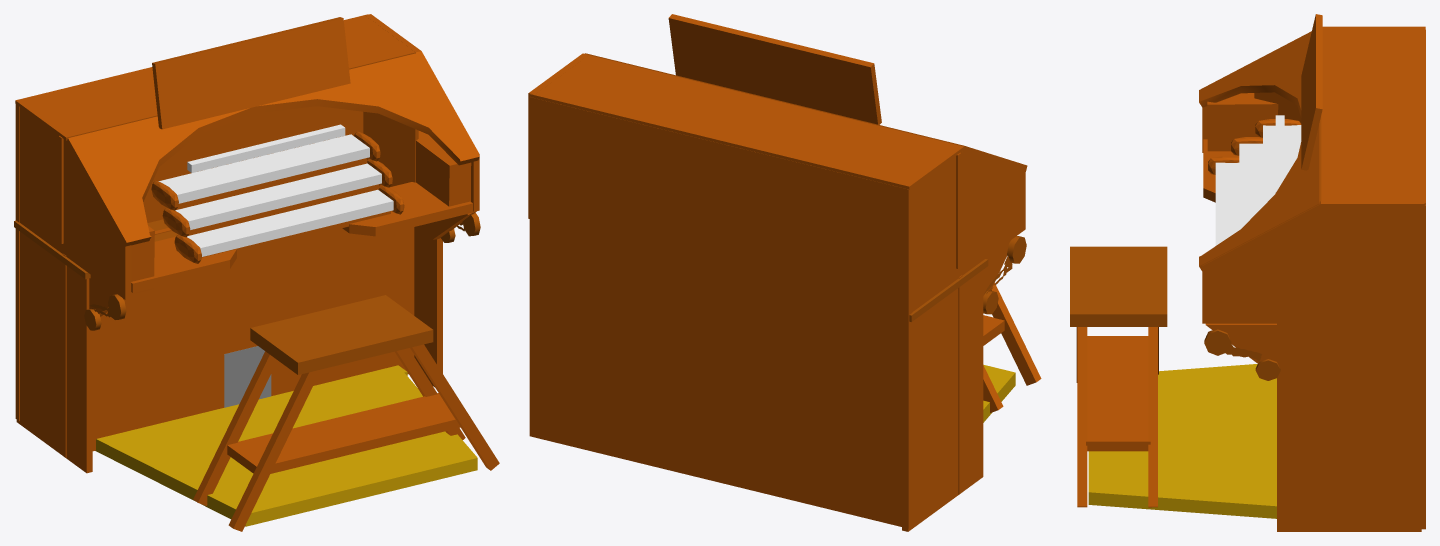
File: sweethome3d-contributions-allen-organ-174.glb
3 renders of one model, left to right at view 1: azimuth 30°, elevation 25°; view 2: azimuth 150°, elevation 25°; view 3: azimuth 270°, elevation 25°, orthographic. The views are drawn at different scales.
Visible parts, largest first — view 1: dividerwall, Boolean_3, cutslopefront, musicrack, Cube_1, Boolean_left, bench_seat, top, Cube_7, nameboard, manualkeys_1, manualkeys_2 (+20 smaller); view 2: backwall, top, Cube_1, musicrack, Boolean_left, Cube_6_2, cutslopefront, dividerwall, Boolean_3, midcrossmember, nameboard, Boolean_right (+1 smaller); view 3: Cube_1_1, Boolean_right, Boolean_3, top, bench_seat, cutslopefront, Cube_7, Cube_9, musicrack, Cube_6, manualkeys_2, manualkeys (+9 smaller).
Part boxes in pixels (left/top/right/bottom): dividerwall: left=62, top=227, right=414, bottom=457; Boolean_3: left=95, top=365, right=477, bottom=526; cutslopefront: left=66, top=52, right=479, bottom=246; musicrack: left=152, top=17, right=350, bottom=129; Cube_1: left=16, top=232, right=92, bottom=473; Boolean_left: left=19, top=107, right=131, bottom=299; bench_seat: left=250, top=295, right=433, bottom=374; top: left=15, top=14, right=415, bottom=140; Cube_7: left=227, top=393, right=460, bottom=473; nameboard: left=58, top=106, right=363, bottom=243; manualkeys_1: left=158, top=134, right=369, bottom=203; manualkeys_2: left=187, top=189, right=393, bottom=256; backwall: left=529, top=97, right=912, bottom=528; top: left=530, top=55, right=963, bottom=189; Cube_1: left=902, top=270, right=983, bottom=531; musicrack: left=668, top=14, right=881, bottom=124; Boolean_left: left=912, top=151, right=1025, bottom=311; Cube_6_2: left=991, top=283, right=1041, bottom=385; cutslopefront: left=585, top=53, right=1027, bottom=172; dividerwall: left=958, top=275, right=962, bottom=494; Boolean_3: left=983, top=364, right=1015, bottom=422; midcrossmember: left=909, top=259, right=988, bottom=321; nameboard: left=956, top=152, right=961, bottom=268; Boolean_right: left=528, top=53, right=589, bottom=218; Cube_1_1: left=1277, top=323, right=1421, bottom=531; Boolean_right: left=1202, top=201, right=1424, bottom=323; Boolean_3: left=1088, top=364, right=1276, bottom=518; top: left=1321, top=26, right=1425, bottom=205; bench_seat: left=1070, top=246, right=1167, bottom=326; cutslopefront: left=1199, top=31, right=1321, bottom=270; Cube_7: left=1086, top=336, right=1150, bottom=451; Cube_9: left=1207, top=93, right=1278, bottom=151; musicrack: left=1301, top=14, right=1322, bottom=170; Cube_6: left=1077, top=327, right=1087, bottom=507; manualkeys_2: left=1215, top=162, right=1239, bottom=245; manualkeys: left=1239, top=143, right=1262, bottom=229.
Bounding box in the file's own units: 6.1 × 6.11 × 5.12.
